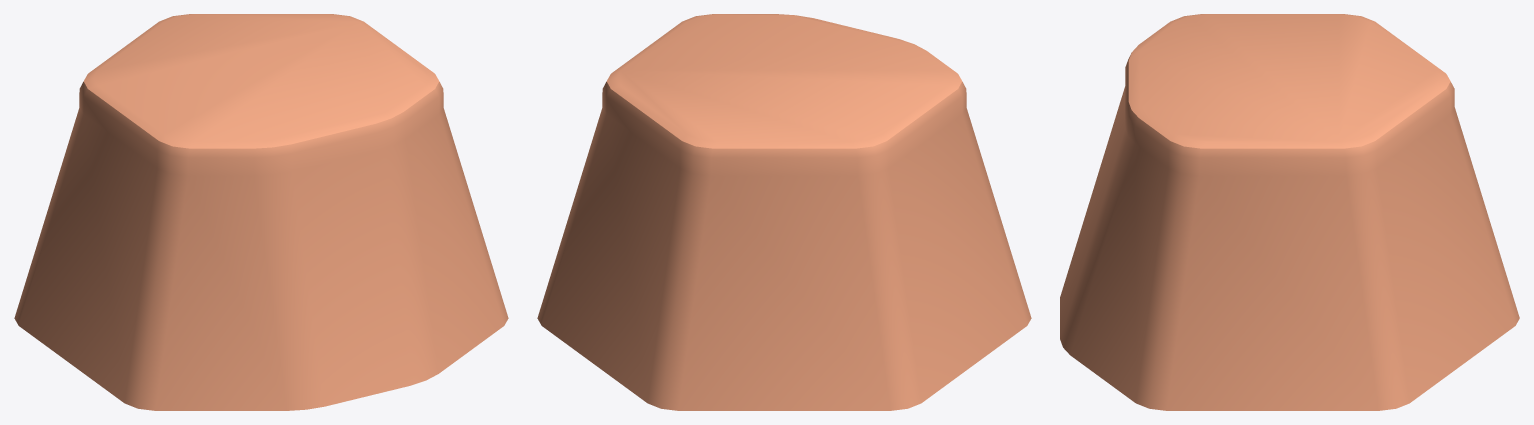
File: HillRock007.fbx
3 views of the same model, side by side, from view 1: azimuth 30°, elevation 25°; view 2: azimuth 150°, elevation 25°; view 3: azimuth 270°, elevation 25° (orthographic).
Visible parts, largest first — view 1: HillRock007; view 2: HillRock007; view 3: HillRock007.
Part boxes in pixels (<box>): HillRock007: <box>14,14,508,410</box>; HillRock007: <box>537,14,1031,410</box>; HillRock007: <box>1060,14,1519,410</box>.
Size of the model in its own units: 747 by 451 by 783.
